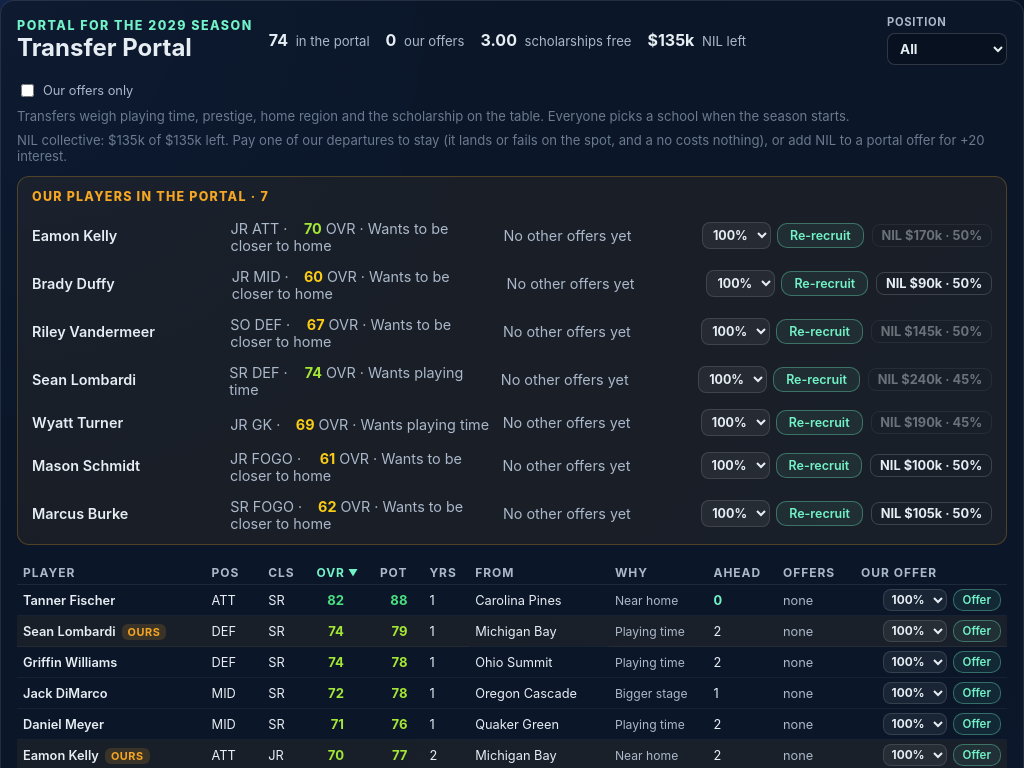
Scenario: PortalBoard NIL › adds NIL to a portal offer and disables deals the collective cannot afford
Select "25%" in the dropdown named "Scholarship offer amount for Tanner Fischer" at [915, 600], box [883,589,947,611]
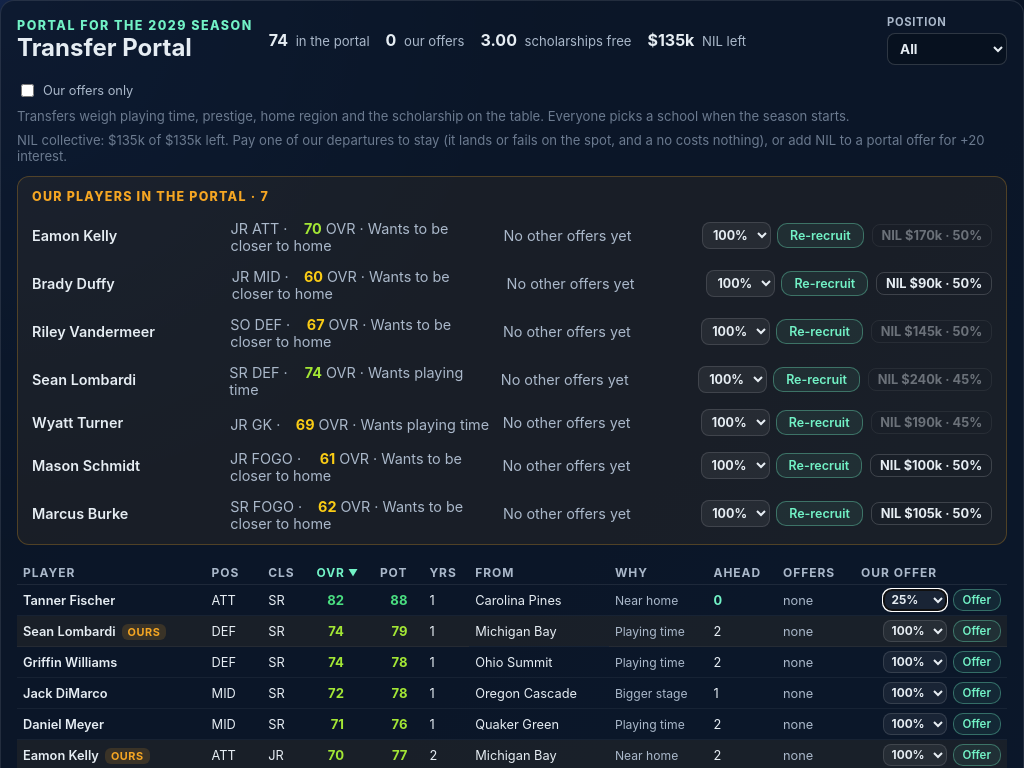
Click the button "Offer" in the row of "Tanner".
click(977, 600)  # box [953,589,1001,611]
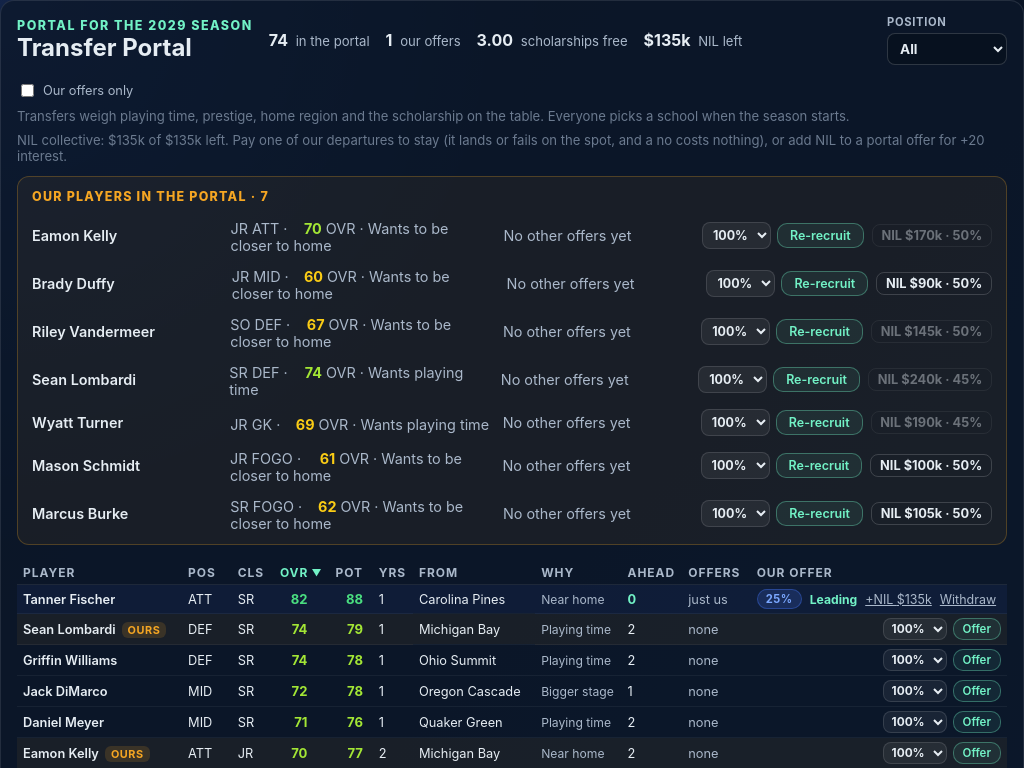
Click the button "+NIL $135k".
click(898, 599)  # box [865,592,932,606]
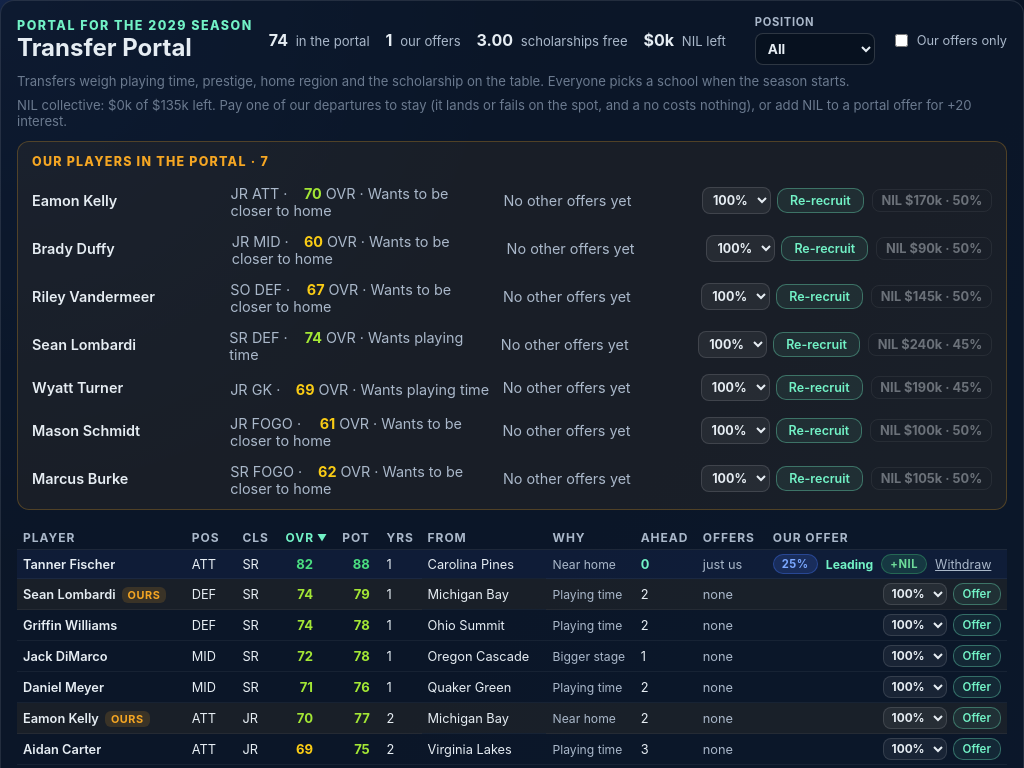
Expected: the button with aria-label "NIL deal to keep" is disabled, [872,189,992,212]
Expected: the text "+NIL" is shown, [881,554,927,574]
Expected: the text "NIL collective:" shows "NIL collective: $0k of", [17,97,1007,129]
